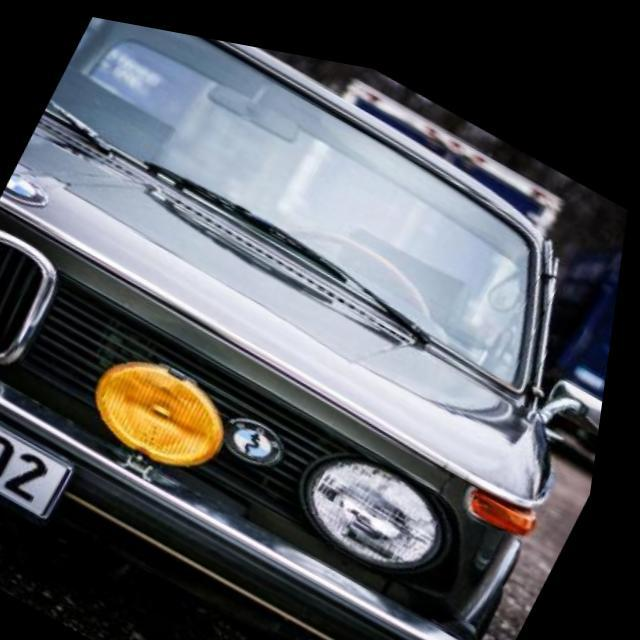license_plate: (0, 380, 94, 518)
